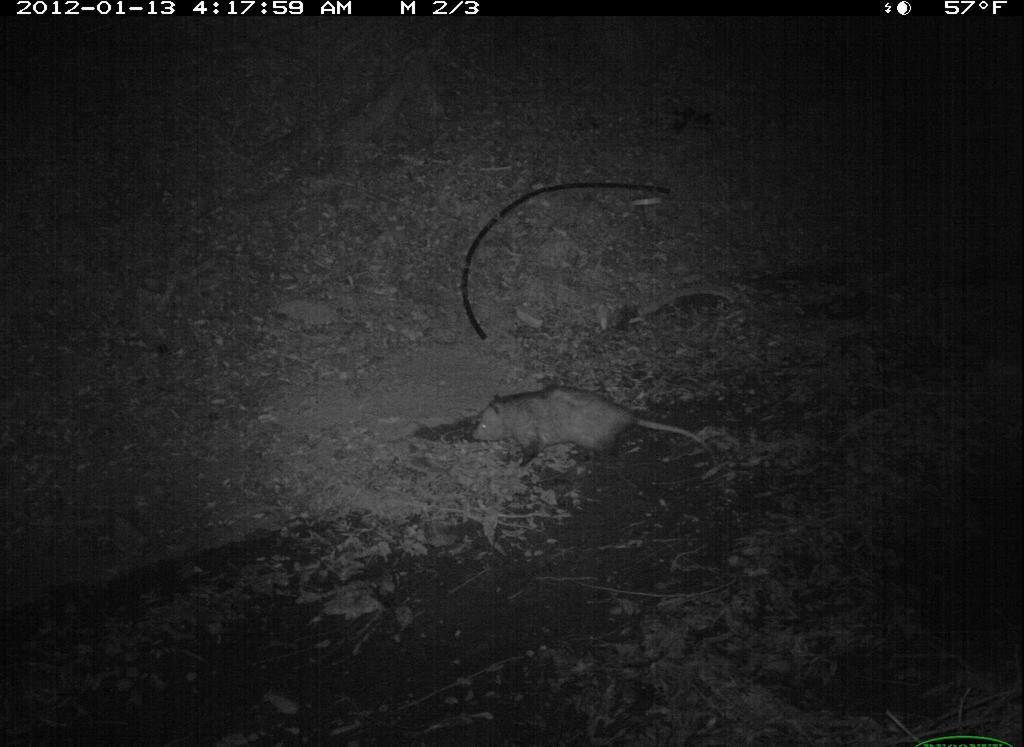opossum: (466, 381, 722, 484)
